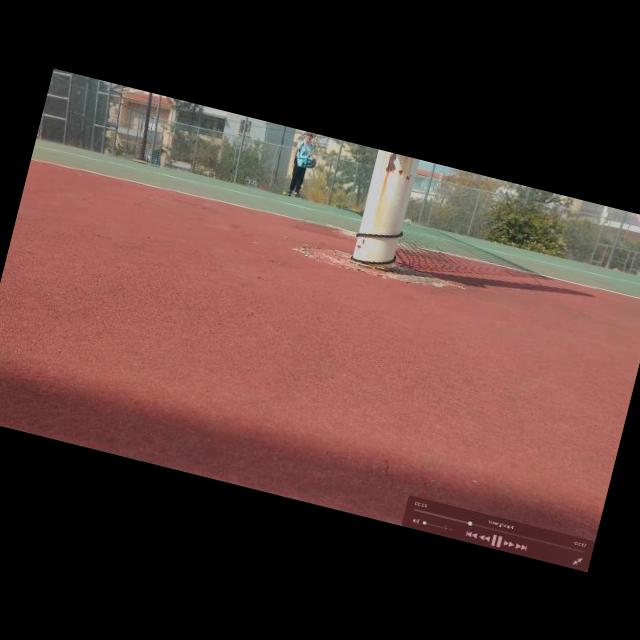tennis-ball: (282, 190, 286, 195)
